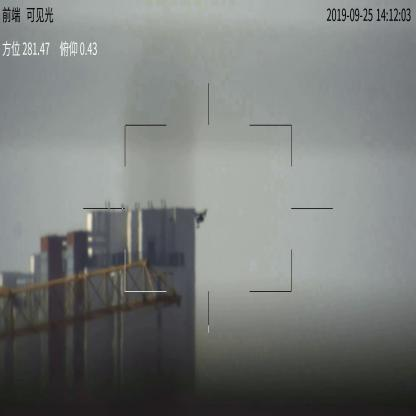uav: (191, 206, 209, 230)
